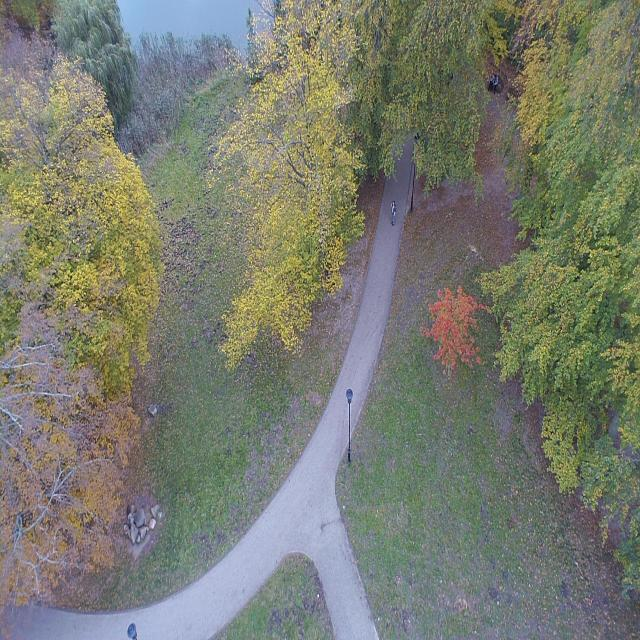p3rson: (491, 74, 499, 94), (391, 200, 396, 227), (488, 71, 494, 91)
